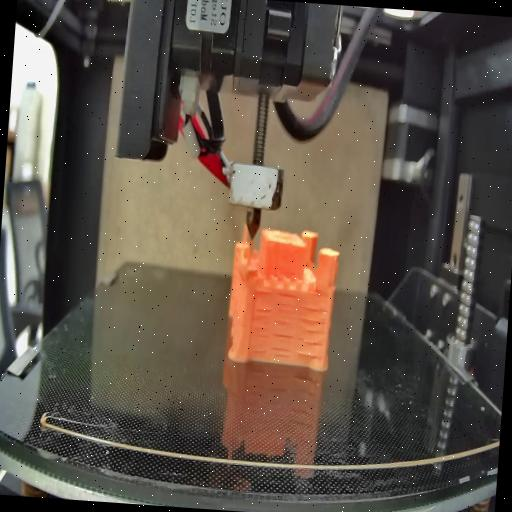cracks: (296, 305, 328, 360), (249, 306, 273, 356), (275, 288, 301, 326), (271, 332, 293, 358), (304, 286, 326, 299), (250, 288, 274, 296)
